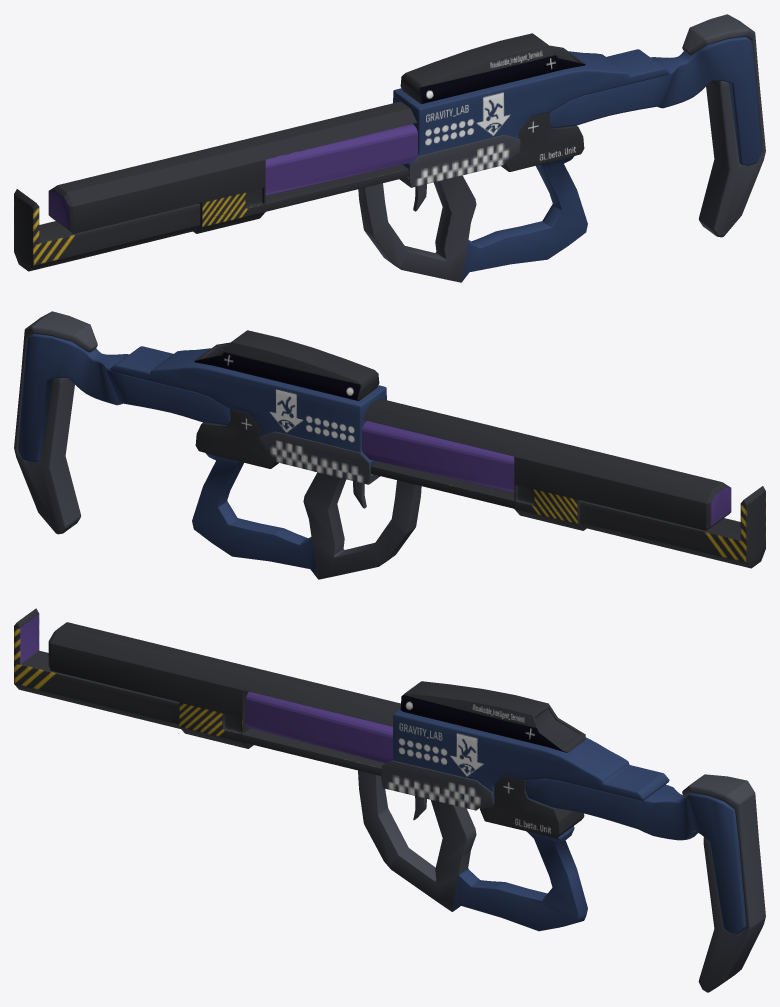
The model's file is Gun.fbx.
3 views of the same model, one above another, from view 1: azimuth 30°, elevation 25°; view 2: azimuth 150°, elevation 25°; view 3: azimuth 330°, elevation 25° (orthographic).
Parts seen in each view (by area): view 1: 枪管_low, 握把_low, 枪身_low, 枪托_low, 枪托垫_low, 枪镜_low, 发光体_low, 枪身2_low; view 2: 枪管_low, 握把_low, 枪身_low, 枪托_low, 枪托垫_low, 枪镜_low, 发光体_low, 枪身2_low; view 3: 枪管_low, 握把_low, 枪身_low, 枪托_low, 枪托垫_low, 枪镜_low, 发光体_low, 枪身2_low.
Boxes of the visible parts, <box> form: 枪管_low: <box>14,101,416,271</box>; 握把_low: <box>358,134,587,282</box>; 枪身_low: <box>393,49,669,171</box>; 枪托_low: <box>549,36,761,165</box>; 枪托垫_low: <box>682,14,765,237</box>; 枪镜_low: <box>400,33,585,104</box>; 发光体_low: <box>265,124,417,195</box>; 枪身2_low: <box>501,112,584,171</box>; 枪管_low: <box>363,398,765,568</box>; 握把_low: <box>192,431,421,579</box>; 枪身_low: <box>110,346,386,468</box>; 枪托_low: <box>18,334,230,462</box>; 枪托垫_low: <box>14,311,97,534</box>; 枪镜_low: <box>194,330,379,400</box>; 发光体_low: <box>362,421,514,492</box>; 枪身2_low: <box>195,409,278,468</box>; 枪管_low: <box>14,608,400,775</box>; 握把_low: <box>358,760,587,931</box>; 枪身_low: <box>385,709,669,808</box>; 枪托_low: <box>525,779,746,934</box>; 枪托垫_low: <box>682,774,765,992</box>; 枪镜_low: <box>400,681,585,752</box>; 发光体_low: <box>245,691,393,763</box>; 枪身2_low: <box>480,776,584,838</box>.
Bounding box in the file's own units: 35.22 × 10.8 × 2.36.
